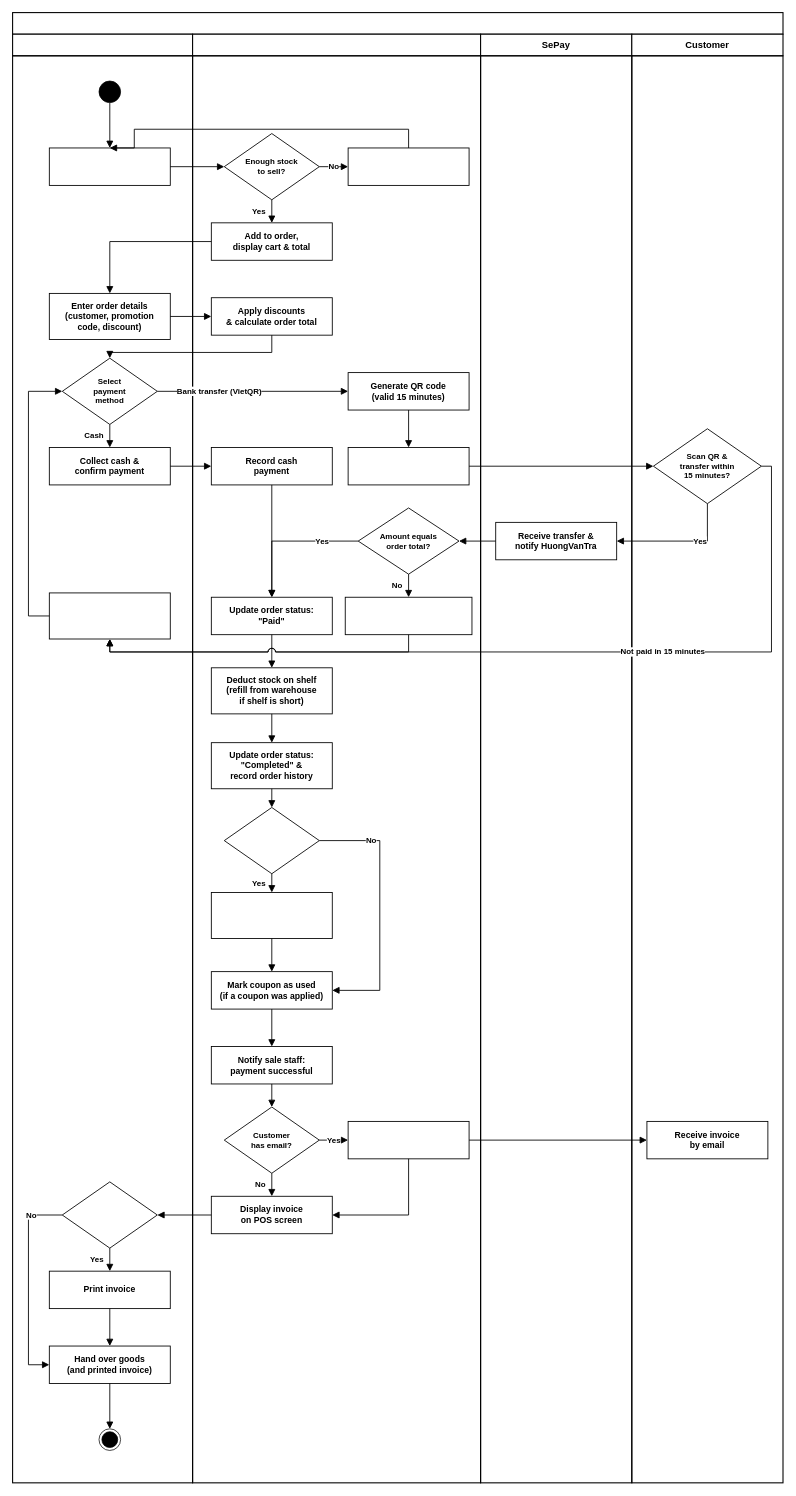
The diagram is 796 pixels wide and 1496 high, and some of its shapes have lost their labels. The box of each missing label's shape, as (x1, y1, x2, y2) in pixels:
Add loyalty points & update customer tier if qualified: (211, 892, 332, 939)
Cancel payment or select payment method again: (49, 592, 170, 639)
Customer wants printed invoice?: (61, 1181, 157, 1248)
Display QR code: (347, 447, 469, 485)
Hold order, flag payment for manual check: (344, 596, 472, 635)
HuongVanTra System: (192, 33, 481, 56)
Order has a customer?: (223, 807, 319, 874)
Sale: (12, 33, 193, 56)
Sale Create Order: (12, 12, 783, 34)
Select product & quantity: (49, 147, 170, 185)
Send invoice to customer email: (347, 1121, 469, 1159)
Show "not enough stock" message: (347, 147, 469, 185)
